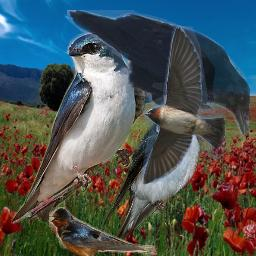Crow: (67, 10, 250, 136)
Swallow: (11, 30, 148, 225), (102, 107, 203, 241), (142, 26, 226, 185), (49, 207, 157, 256)
